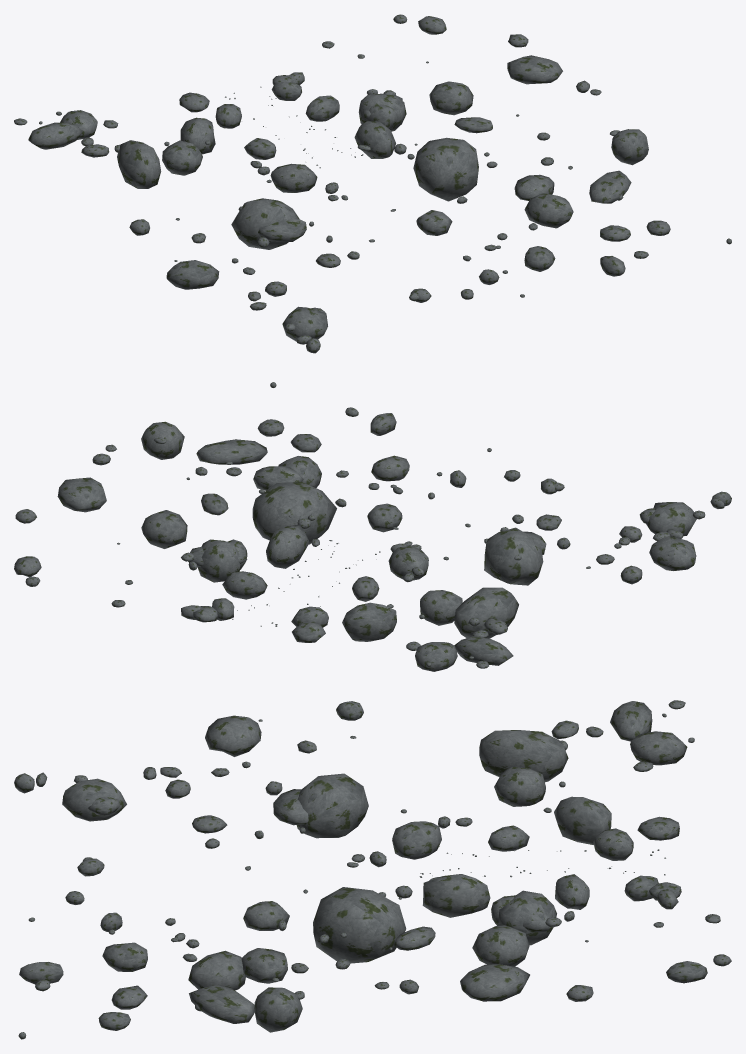
The model's file is FOREST_Rockwork.fbx.
3 renders of one model, top to bottom at view 1: azimuth 30°, elevation 25°; view 2: azimuth 150°, elevation 25°; view 3: azimuth 270°, elevation 25°, orthographic. The views are drawn at different scales.
Parts seen in each view (by area): view 1: FOREST_Rockwork; view 2: FOREST_Rockwork; view 3: FOREST_Rockwork.
Boxes of the visible parts, x1,y1,x2,y2 form: FOREST_Rockwork: [14, 14, 731, 353]; FOREST_Rockwork: [14, 382, 731, 671]; FOREST_Rockwork: [14, 700, 731, 1039].
Size of the model in its own units: 51.4 by 6.95 by 50.94.
Materials: 1 (1 with a texture image).
